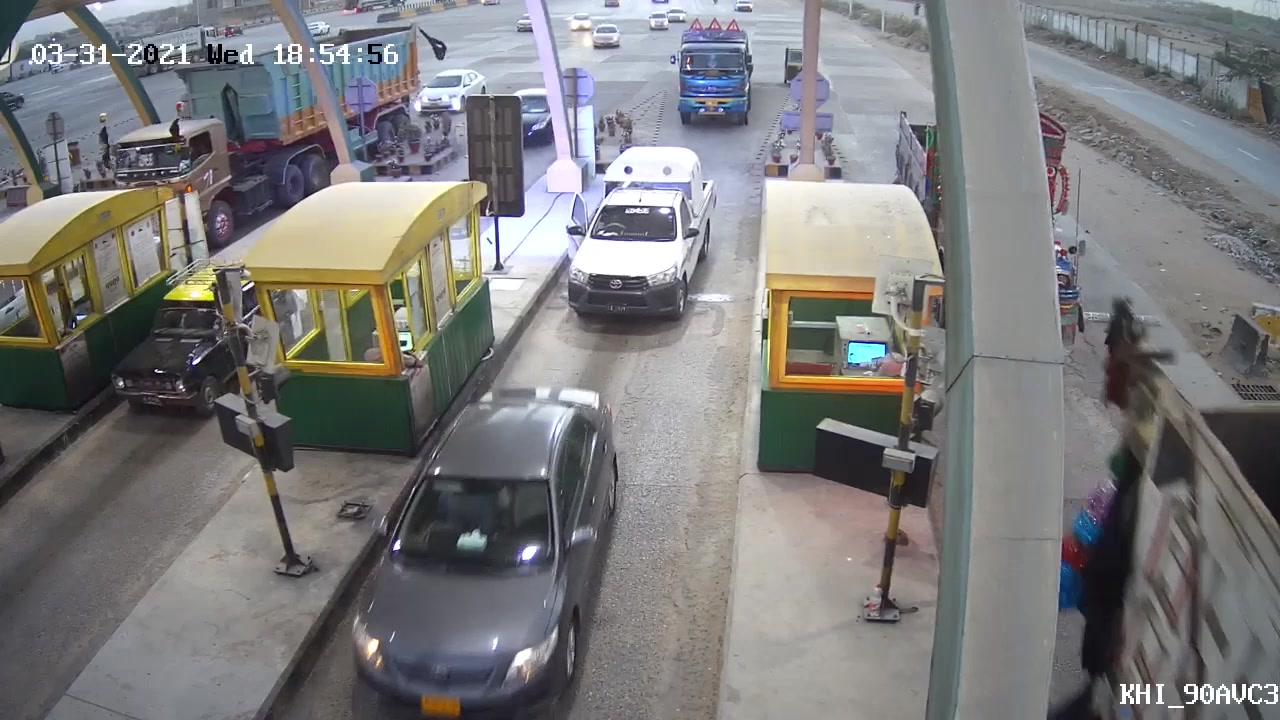F2: (564, 136, 729, 327)
